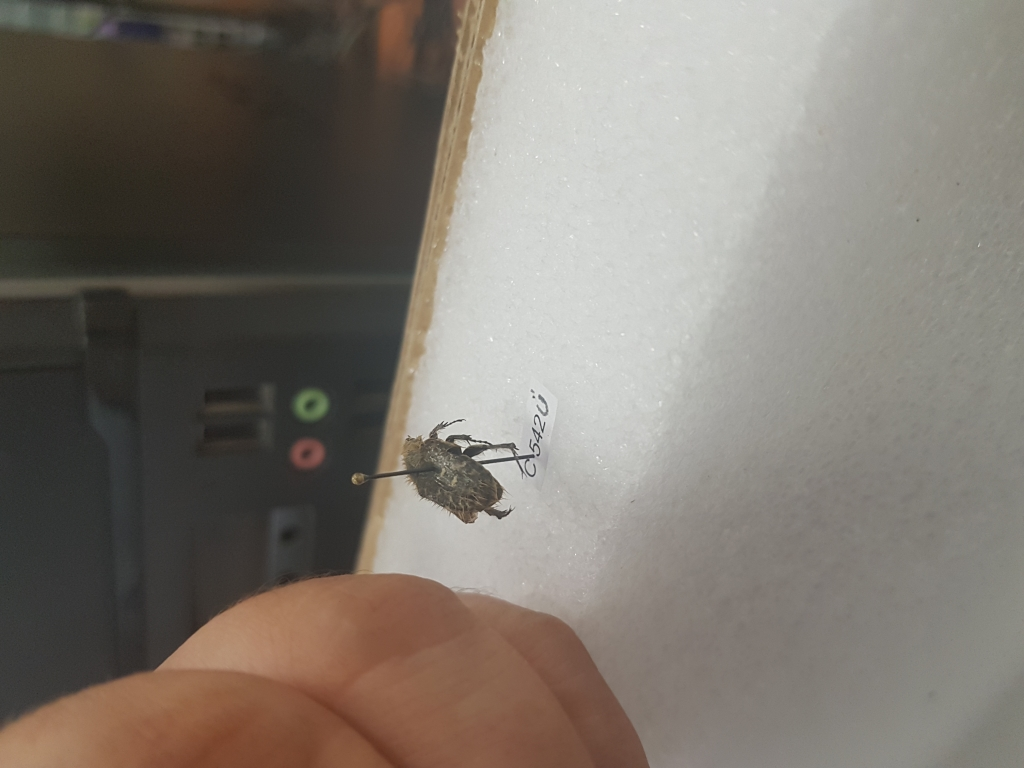Tropinota_hirta: (394, 398, 529, 533)
